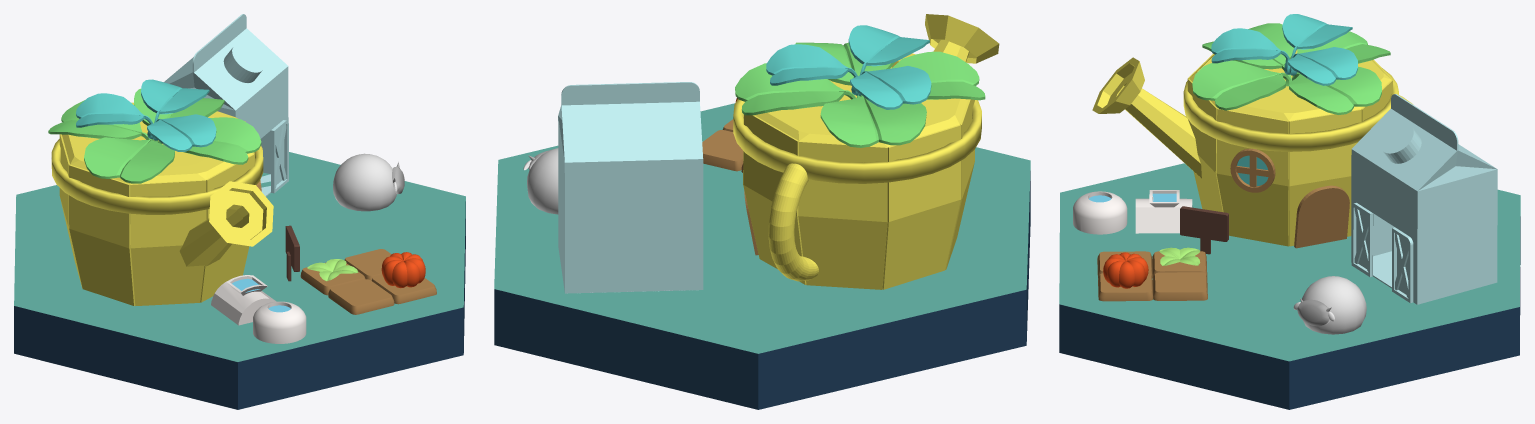
File: Macro - farm barn lv2 WM3.fbx
The picture shows the model from 3 angles, left to right: view 1: azimuth 30°, elevation 25°; view 2: azimuth 150°, elevation 25°; view 3: azimuth 270°, elevation 25°; orthographic projection. The views are drawn at different scales.
Parts seen in each view (by area): view 1: Cylinder.154, Cube.020, Milk_Carton_packet.001, Cube.019, Cube.047, Plane.009, Cube.046, Sphere.011, Plane.014, Cylinder.017, Cylinder.015, Plane.015 (+9 smaller); view 2: Cylinder.154, Milk_Carton_packet.001, Cube.020, Cube.047, Plane.005, Cube.005, Plane.020, Plane.016, Plane.009, Plane.010, Plane.015, Cube.046 (+4 smaller); view 3: Cylinder.154, Milk_Carton_packet.001, Cube.020, Cube.047, Cube.019, Plane.014, Cube.033, Cube.045, Plane.020, Sphere.011, Cylinder.015, Plane.010 (+12 smaller).
Boxes of the visible parts, x1,y1,x2,y2 form: Cylinder.154: (14,152,465,409); Cube.020: (59,102,254,305); Milk_Carton_packet.001: (164,14,288,196); Cube.019: (300,249,436,314); Cube.047: (51,139,263,214); Plane.009: (84,137,174,183); Cube.046: (209,181,273,246); Sphere.011: (333,153,396,211); Plane.014: (158,117,261,164); Cylinder.017: (211,275,276,325); Cylinder.015: (253,301,306,343); Plane.015: (147,114,216,151); Cylinder.154: (494,103,1030,409); Milk_Carton_packet.001: (558,82,703,293); Cube.020: (743,53,974,289); Cube.047: (733,99,981,183); Plane.005: (820,95,926,147); Cube.005: (768,163,818,281); Plane.020: (735,63,855,115); Plane.016: (850,66,931,109); Plane.009: (891,51,985,100); Plane.010: (766,44,857,95); Plane.015: (848,25,929,75); Cube.046: (925,14,999,63); Cylinder.154: (1059,163,1520,409); Milk_Carton_packet.001: (1351,94,1497,304); Cube.020: (1187,53,1392,246); Cube.047: (1183,67,1398,151); Cube.019: (1097,251,1207,301); Plane.014: (1192,60,1291,110); Cube.033: (1294,185,1349,248); Cube.045: (1125,88,1201,178); Plane.020: (1289,66,1381,114); Sphere.011: (1301,276,1366,334); Cylinder.015: (1073,191,1127,234); Plane.010: (1288,47,1357,85).
Size of the model in its own units: 197 by 88.37 by 172.
